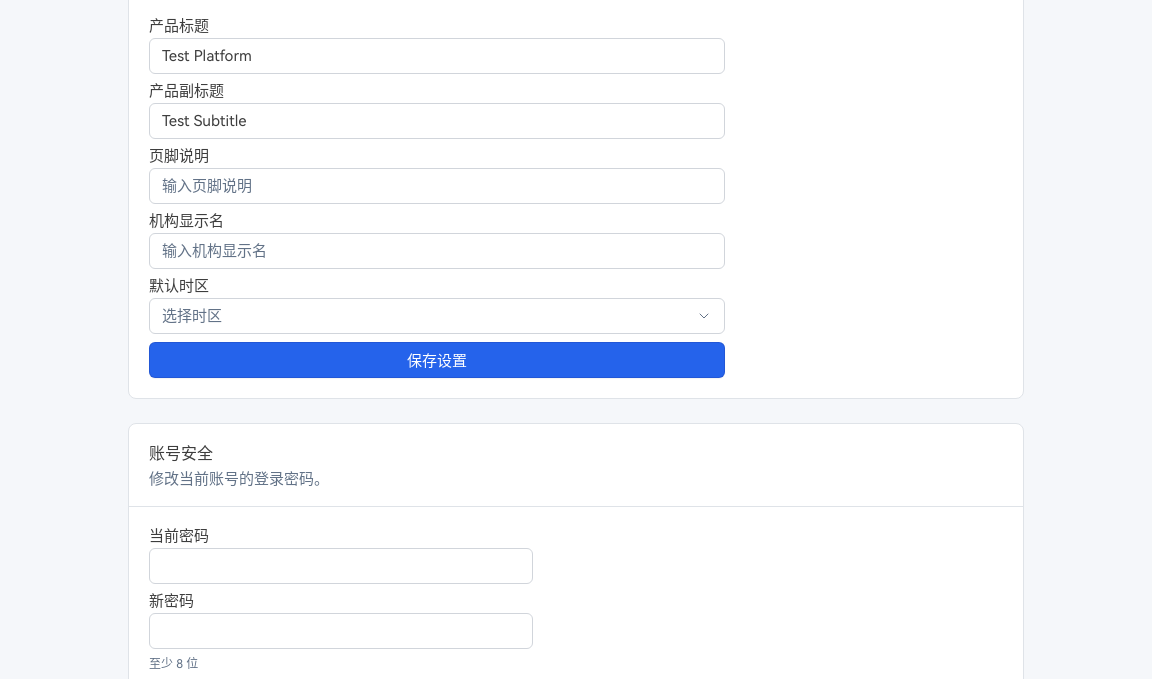
Scenario: SettingsPage › shows branding save error inline
The width and height of the screenshot is (1152, 679).
(page scrolled)
Expected: the field labelled "产品标题" is shown, [149,38,725,74]
Click the button "保存设置": x=437, y=360 [149,342,725,378]
(page scrolled)
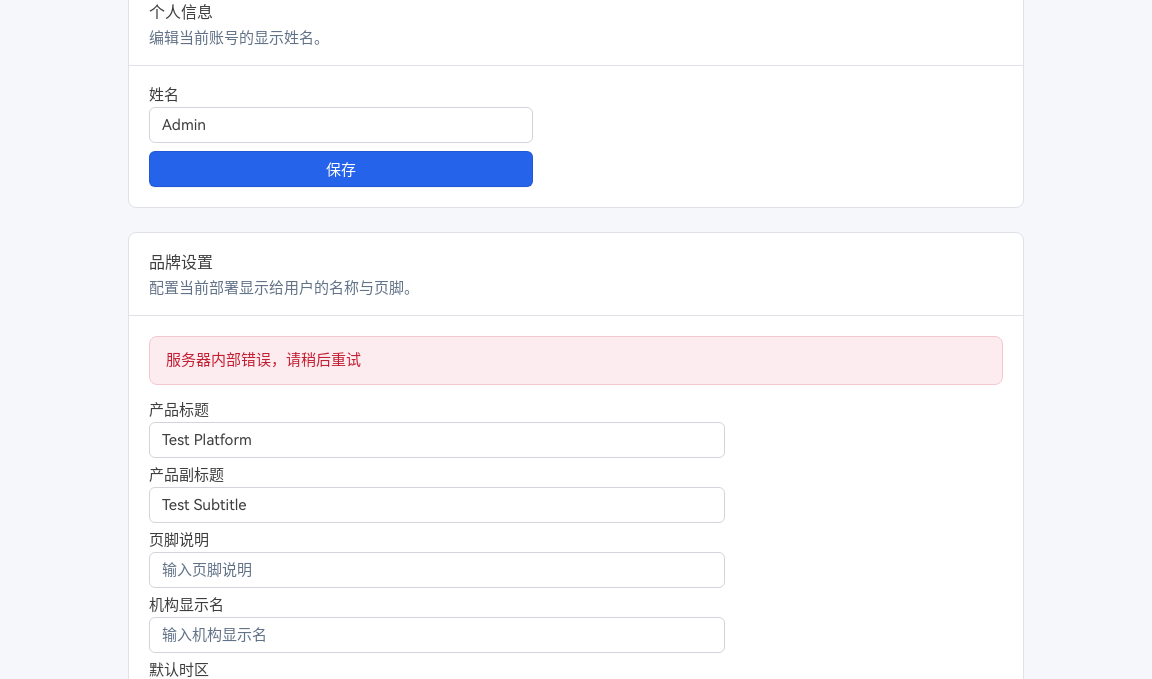
Result: the text "服务器内部错误，请稍后重试" is shown at [149,336,1003,384]
